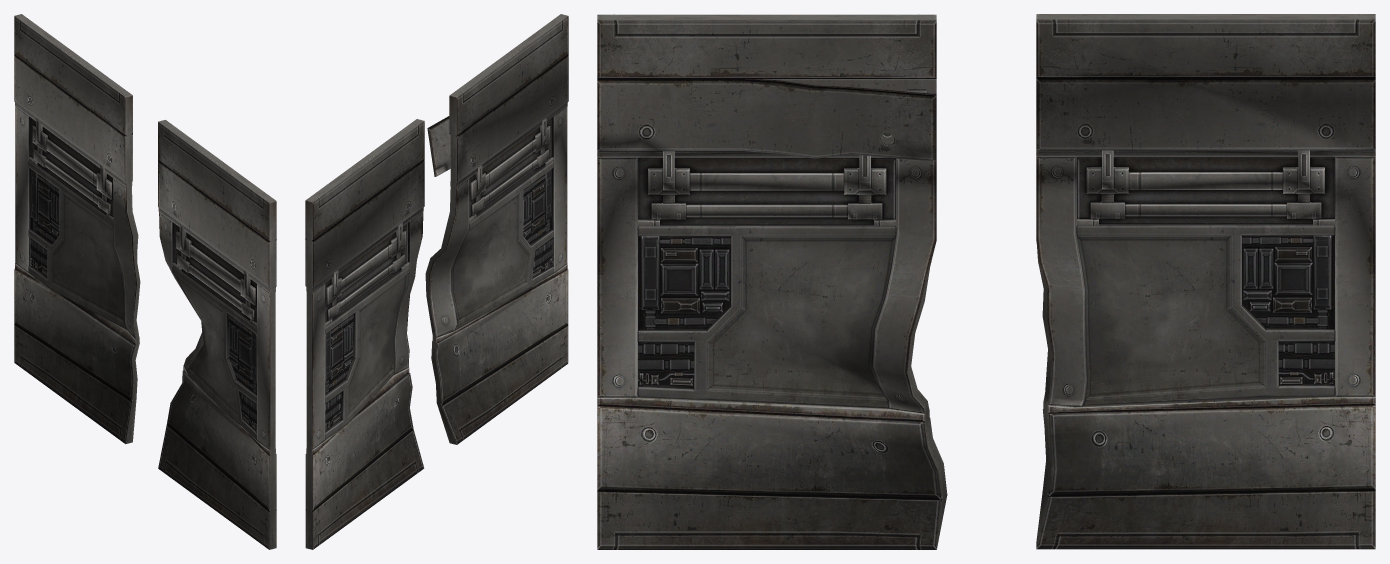
Rendered from 02_07_buckeled_elevator_front.dae.
3 views of the same model, side by side, from view 1: azimuth 30°, elevation 25°; view 2: azimuth 150°, elevation 25°; view 3: azimuth 270°, elevation 25° (orthographic). The views are drawn at different scales.
Visible parts, largest first — view 1: polySurface50, polySurface48; view 2: polySurface48, polySurface50; view 3: polySurface48, polySurface50.
Part boxes in pixels (x1=…): polySurface50: x1=14, y1=14, x2=140, y2=444; polySurface48: x1=158, y1=120, x2=276, y2=549; polySurface48: x1=425, y1=14, x2=568, y2=444; polySurface50: x1=305, y1=119, x2=424, y2=549; polySurface48: x1=597, y1=14, x2=947, y2=549; polySurface50: x1=1036, y1=14, x2=1375, y2=549.
Size of the model in its own units: 0.3663 by 3.01 by 4.
